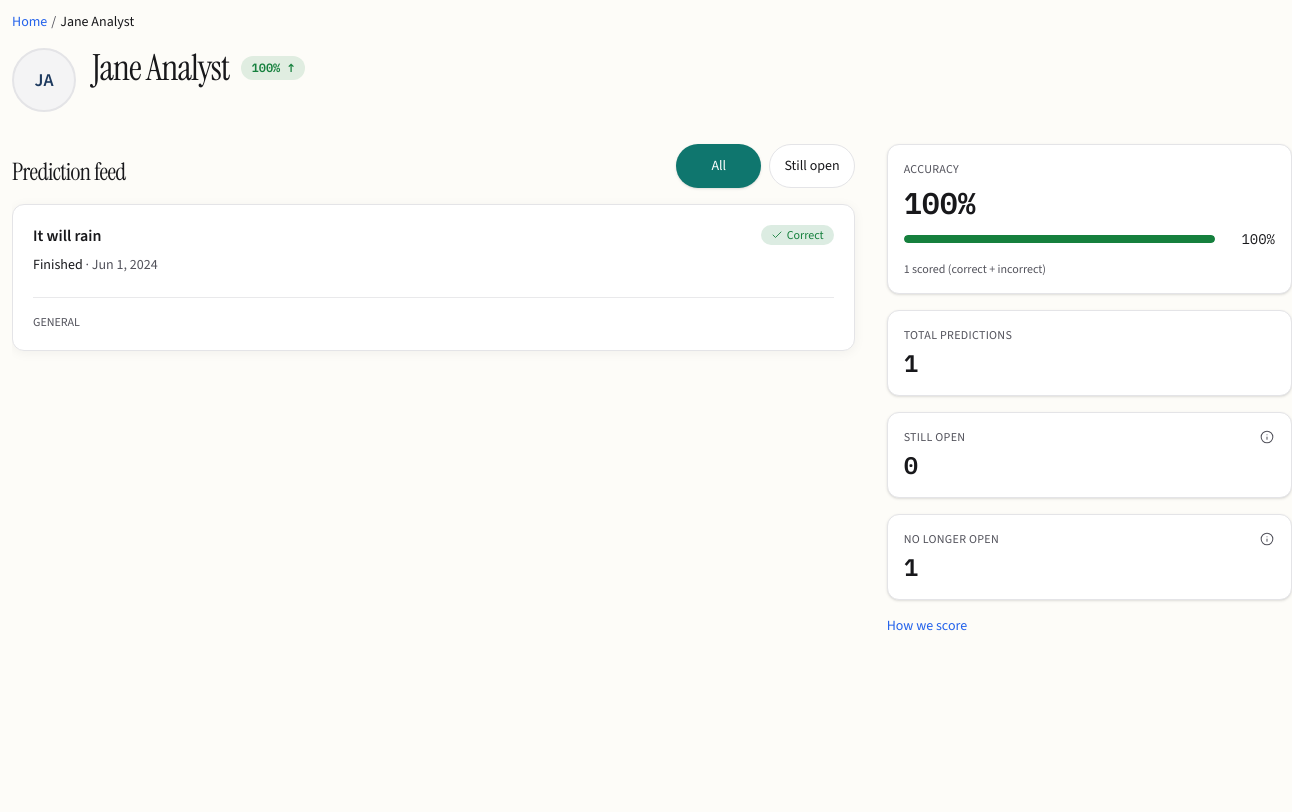
Test: SourceDetailView › given still open filter with no matches, should show still-open empty copy
The image size is (1292, 812).
Click the radio button labelled "Still open". click: [812, 166]
box: [769,144,855,188]
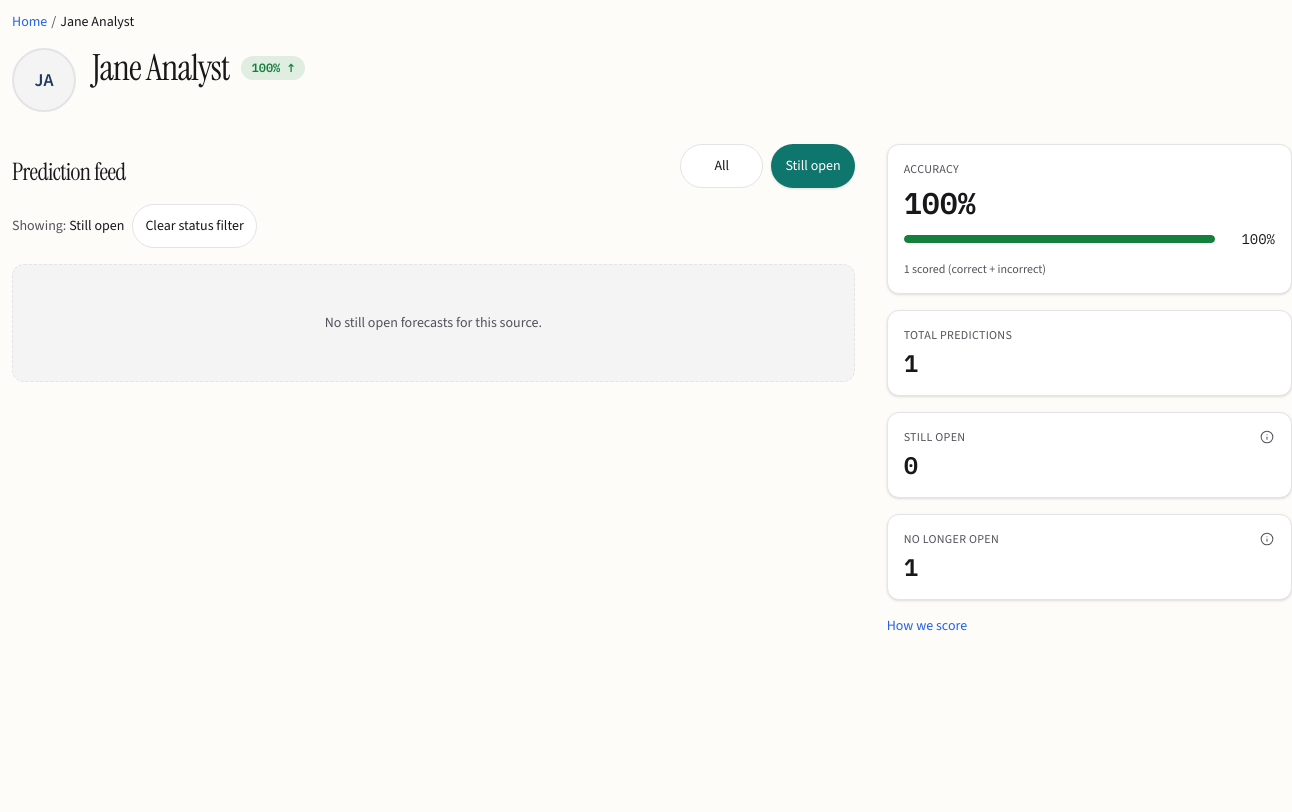
Expected: the text "No still open forecasts for this source." is shown, [12,264,855,382]
